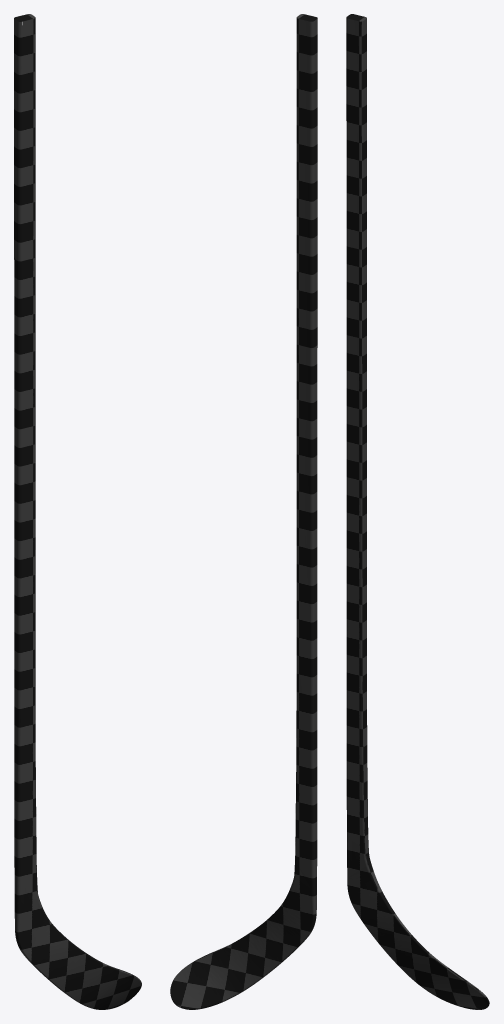
3 renders of one model, left to right at view 1: azimuth 30°, elevation 25°; view 2: azimuth 150°, elevation 25°; view 3: azimuth 330°, elevation 25°, orthographic. The views are drawn at different scales.
Visible parts, largest first — view 1: geometry_0; view 2: geometry_0; view 3: geometry_0.
Part boxes in pixels (<box>): geometry_0: <box>14,14,141,1009</box>; geometry_0: <box>170,14,317,1009</box>; geometry_0: <box>346,14,489,1009</box>.
Bounding box in the file's own units: 229 × 1650 × 56.92.
1 material, 1 textured.
